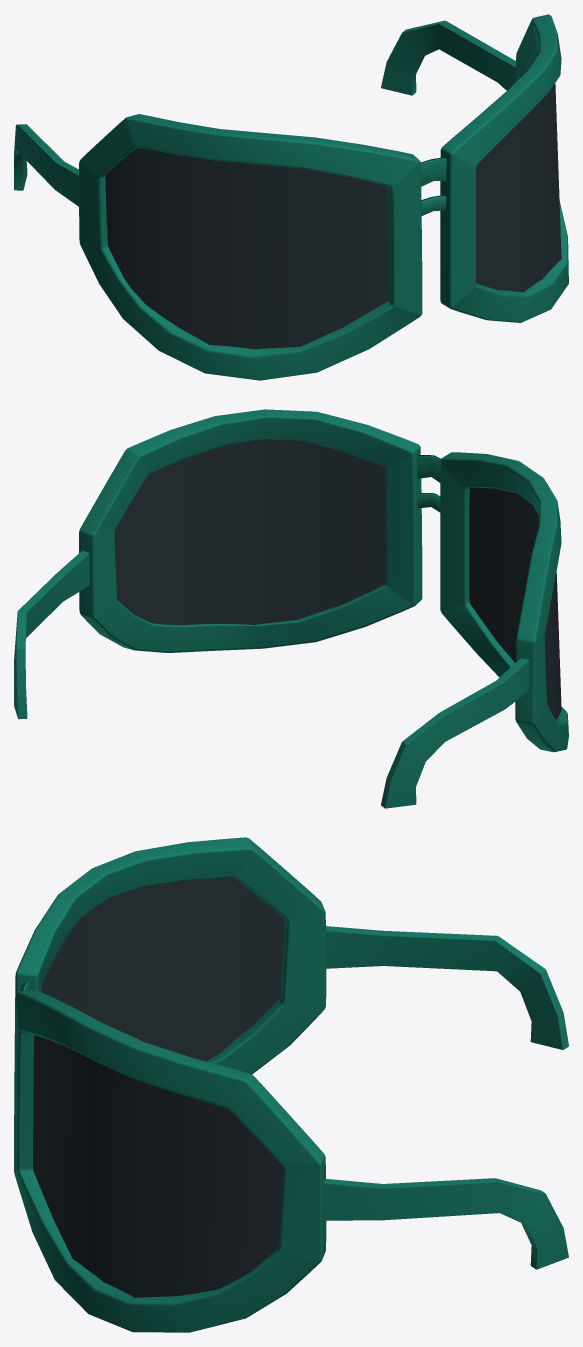
File: sunglass.fbx
3 views of the same model, one above another, from view 1: azimuth 30°, elevation 25°; view 2: azimuth 150°, elevation 25°; view 3: azimuth 270°, elevation 25° (orthographic). The views are drawn at different scales.
Visible parts, largest first — view 1: sunglass; view 2: sunglass; view 3: sunglass.
Part boxes in pixels (left/top/right/bottom): sunglass: left=14, top=14, right=568, bottom=380; sunglass: left=14, top=409, right=568, bottom=808; sunglass: left=14, top=837, right=568, bottom=1332.
Bounding box in the file's own units: 116 × 58.17 × 103.
